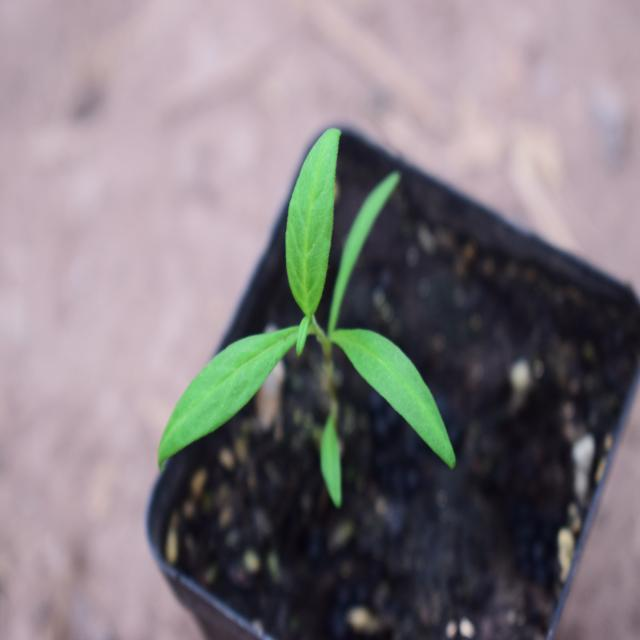white_smart_weed: (114, 113, 456, 506)
